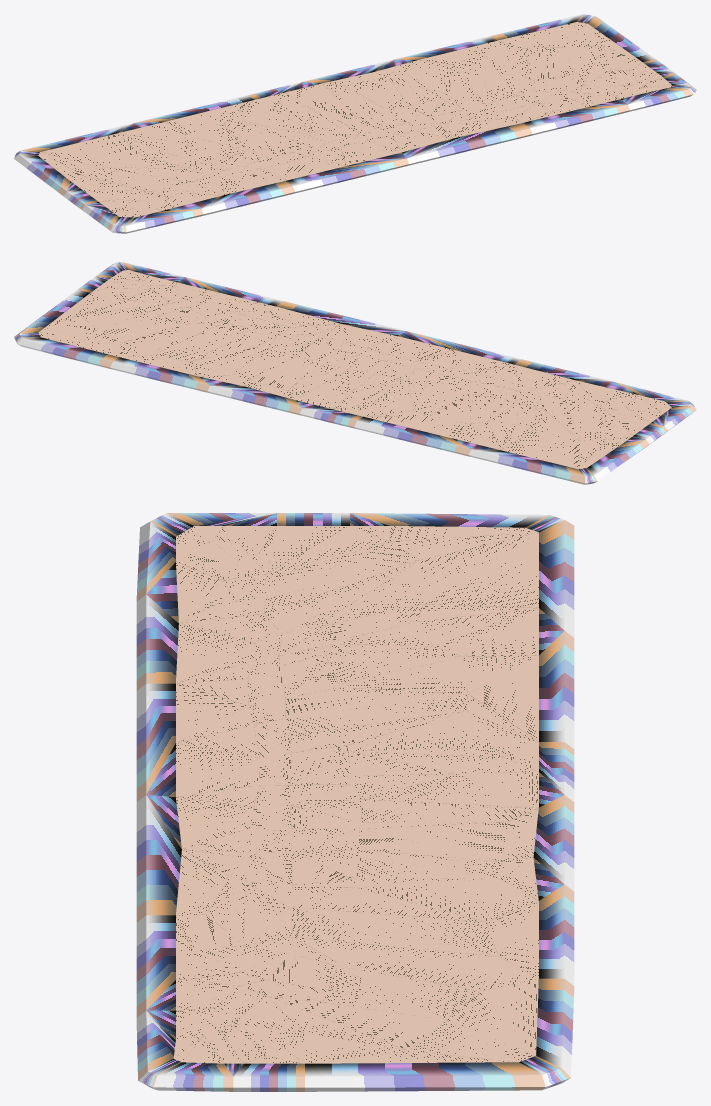
The model's file is P_AP23WallPosterPianoKeys.glb.
3 renders of one model, top to bottom at view 1: azimuth 30°, elevation 25°; view 2: azimuth 150°, elevation 25°; view 3: azimuth 270°, elevation 25°, orthographic. The views are drawn at different scales.
Visible parts, largest first — view 1: P_AP23WallPosterPianoKeys; view 2: P_AP23WallPosterPianoKeys; view 3: P_AP23WallPosterPianoKeys.
Part boxes in pixels (<box>): P_AP23WallPosterPianoKeys: <box>14,14,696,233</box>; P_AP23WallPosterPianoKeys: <box>14,262,696,484</box>; P_AP23WallPosterPianoKeys: <box>136,513,574,1091</box>.
Bounding box in the file's own units: 2 × 0.025 × 0.6487.
1 material, 1 textured.
